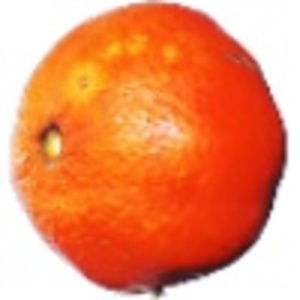tangerina: (8, 1, 289, 300)
